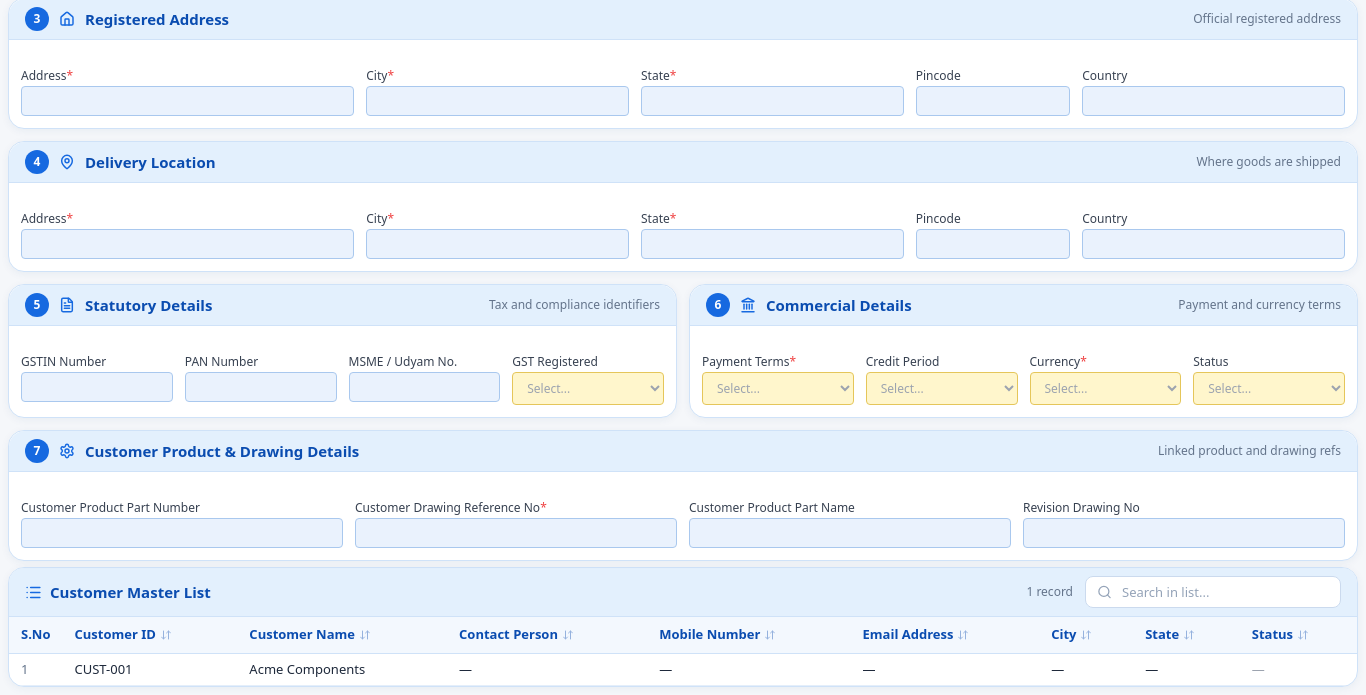
Test case: Customer Master delete › Delete opens the dialog; Cancel deletes nothing; Delete in the dialog deletes once
(page scrolled)
What coordinates should you click on to do the following:
click the text "Acme Components"
I would click on:
 (342, 669)
Its box is [237, 653, 447, 686].
(page scrolled)
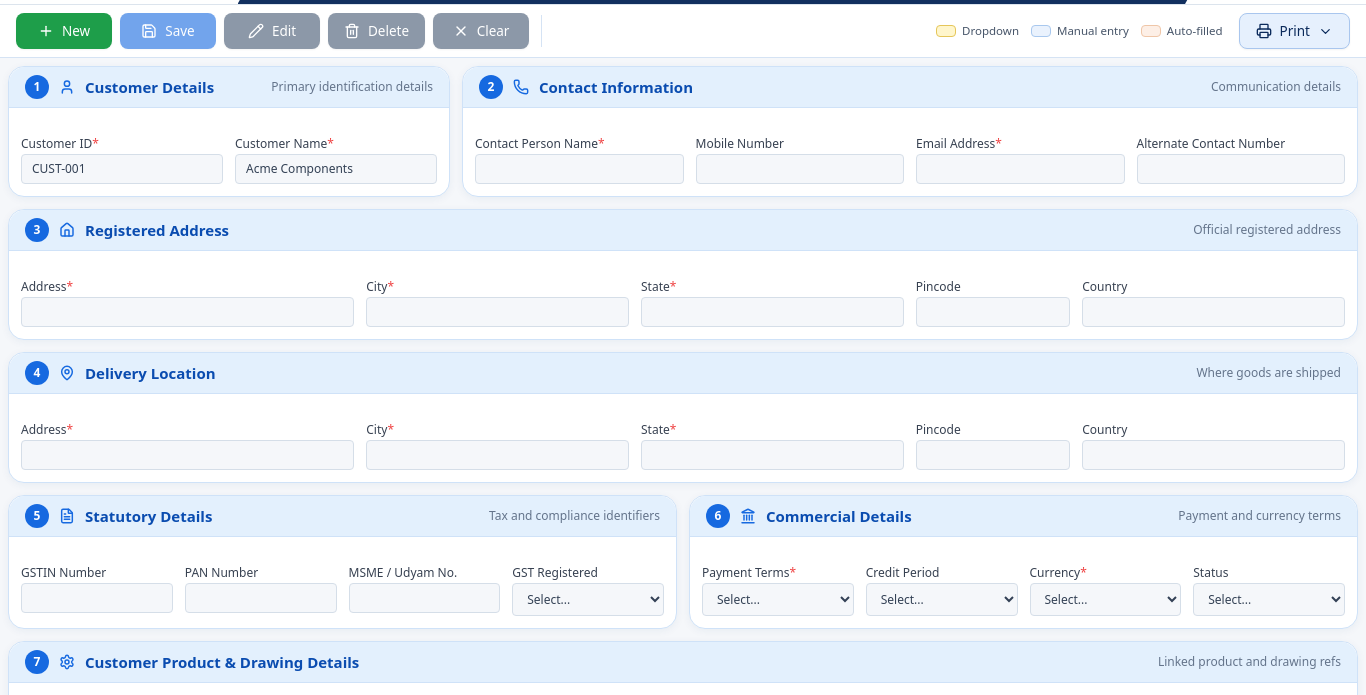
What coordinates should you click on to do the following:
click the button "Delete"
I would click on:
 (377, 31)
Its box is [328, 13, 425, 49].
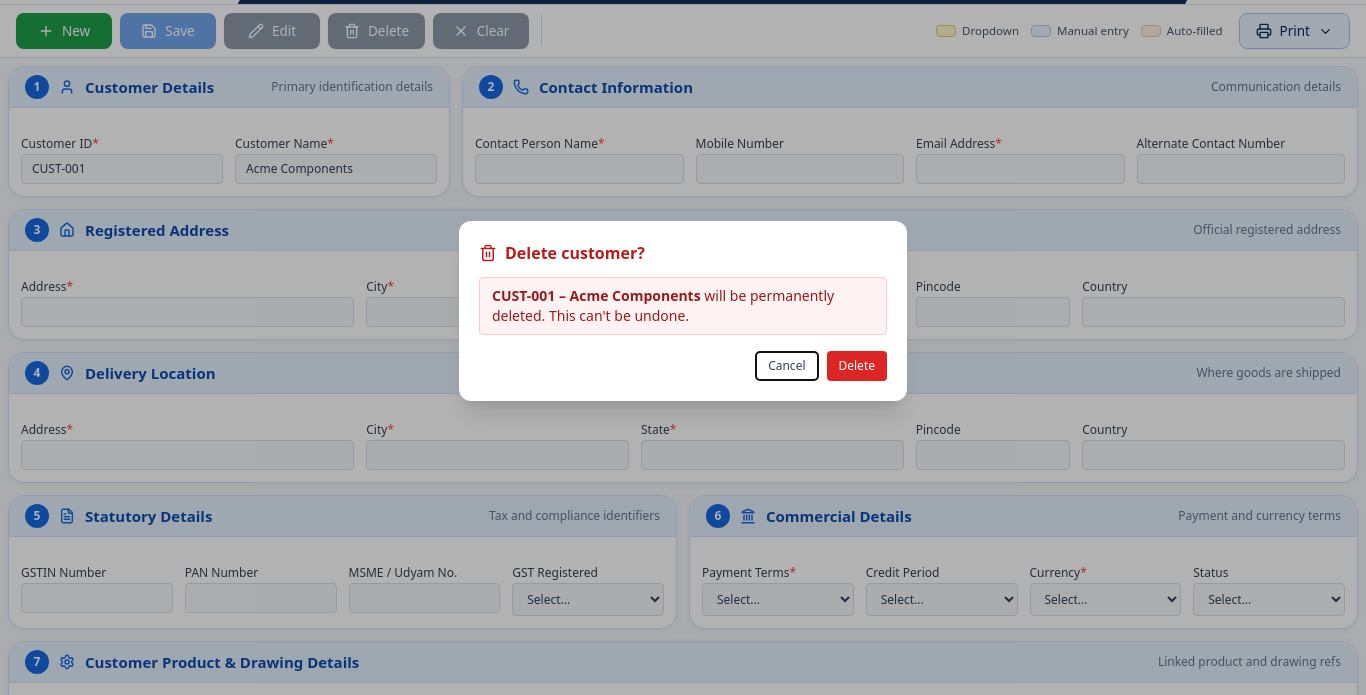
Now the dialog shows "CUST-001 – Acme Components will be permanently deleted", box [459, 221, 907, 401]
Now the heading "Delete customer?" is shown, box [505, 241, 645, 265]
What coordinates should you click on to do the following:
click the button "Cancel"
I would click on:
 (787, 366)
Its box is [755, 351, 818, 381].
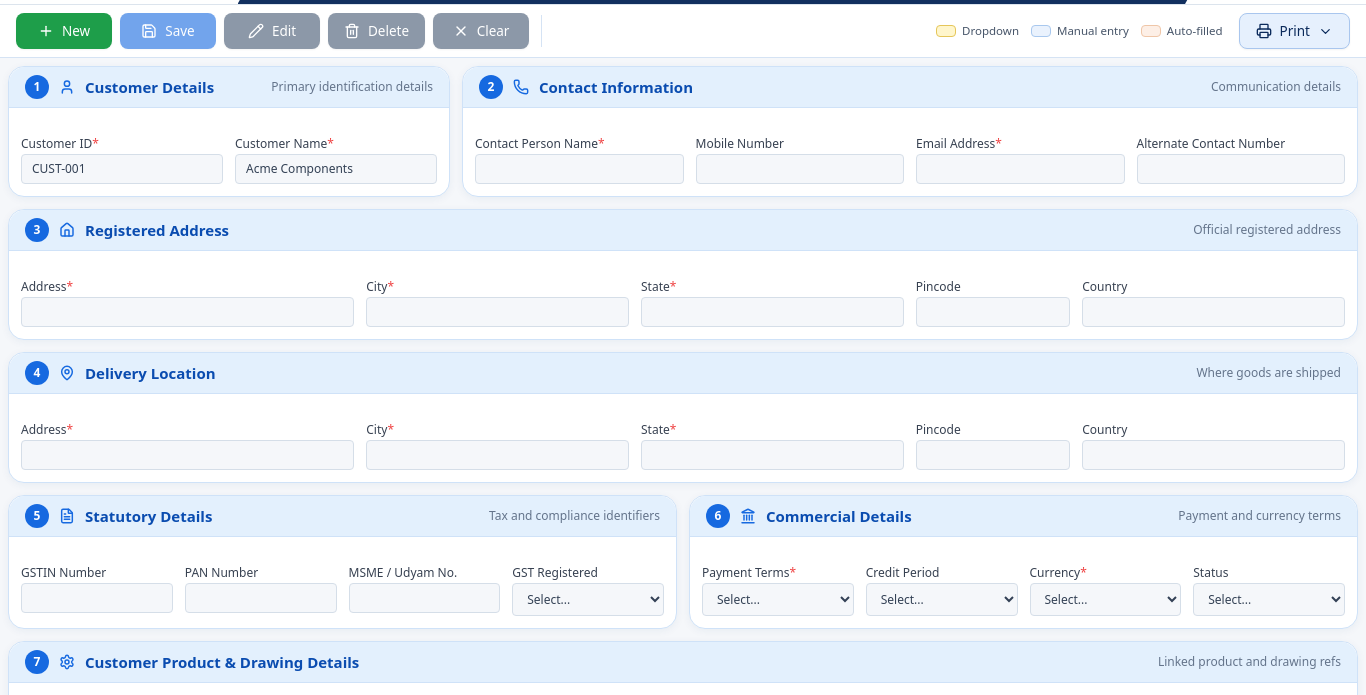
Now the dialog is gone
What coordinates should you click on to do the following:
click the button "Delete"
I would click on:
 (377, 31)
Its box is [328, 13, 425, 49].
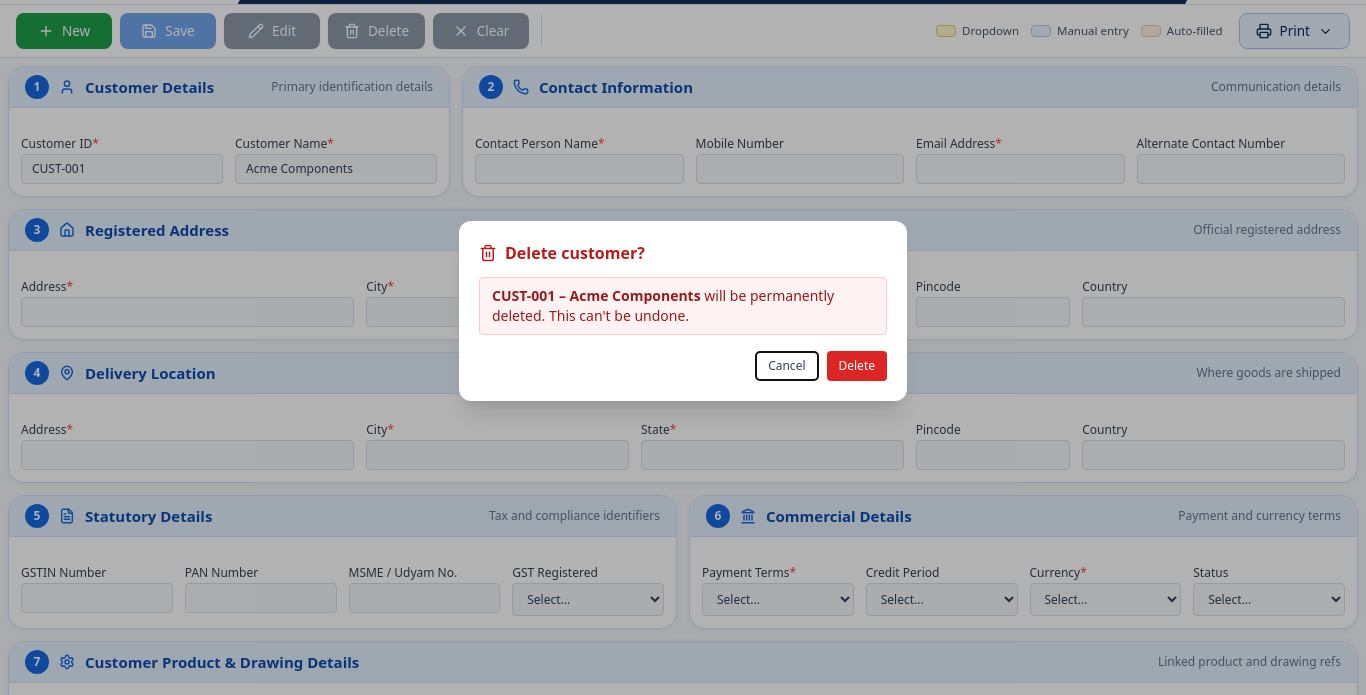
What coordinates should you click on to do the following:
click the button "Delete"
I would click on:
 (857, 366)
Its box is [826, 351, 887, 381].
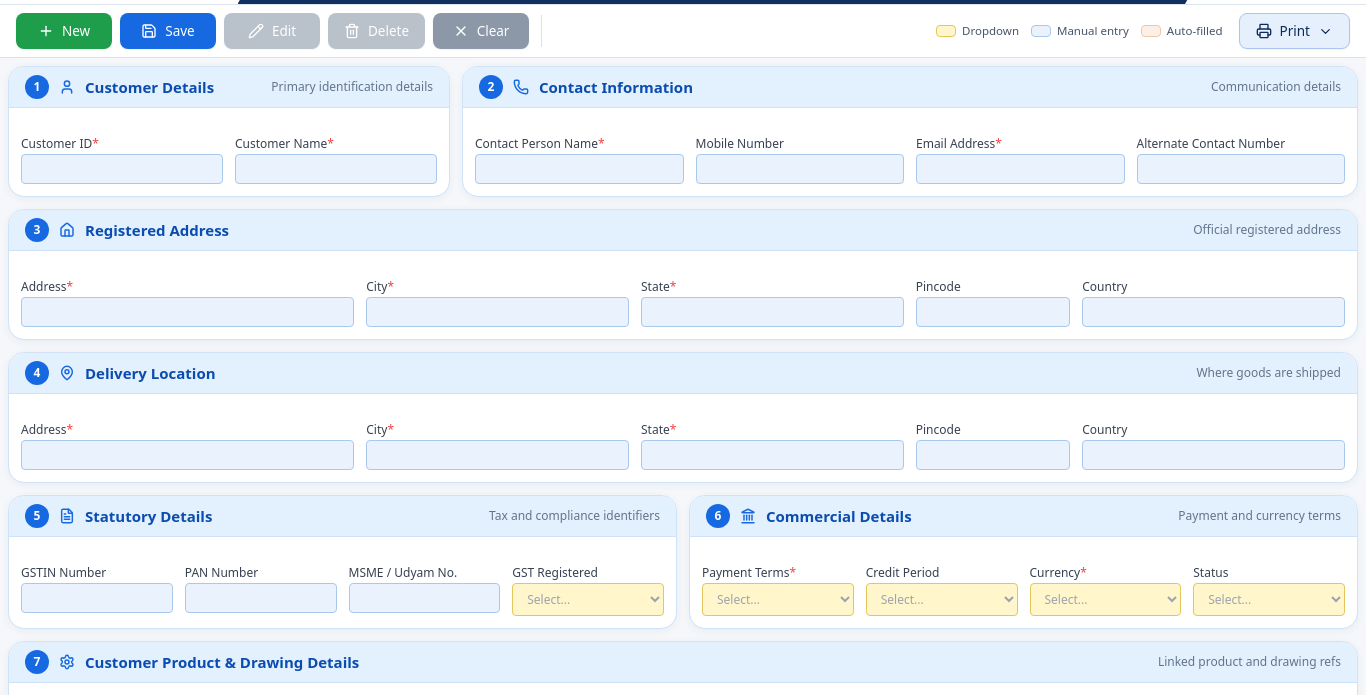
Now the dialog is gone
